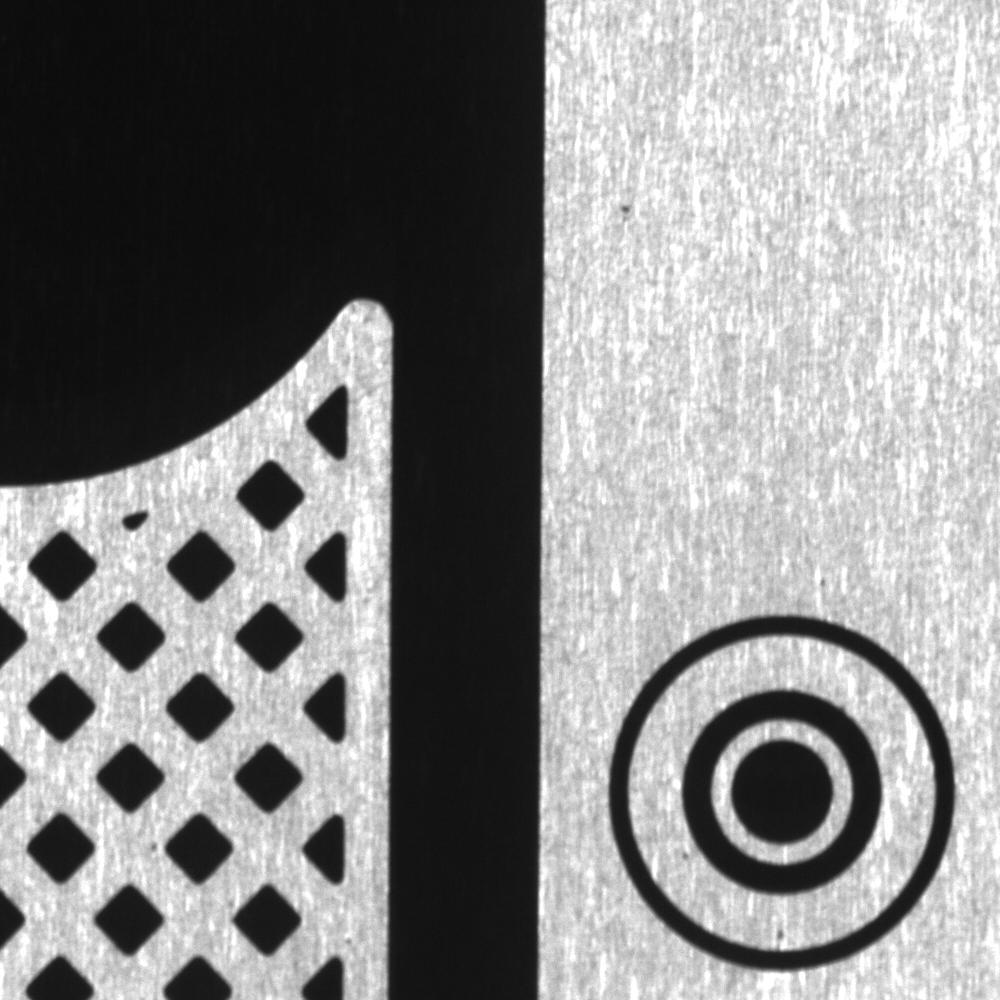Pinhole: (605, 182, 648, 229), (756, 909, 793, 945)
